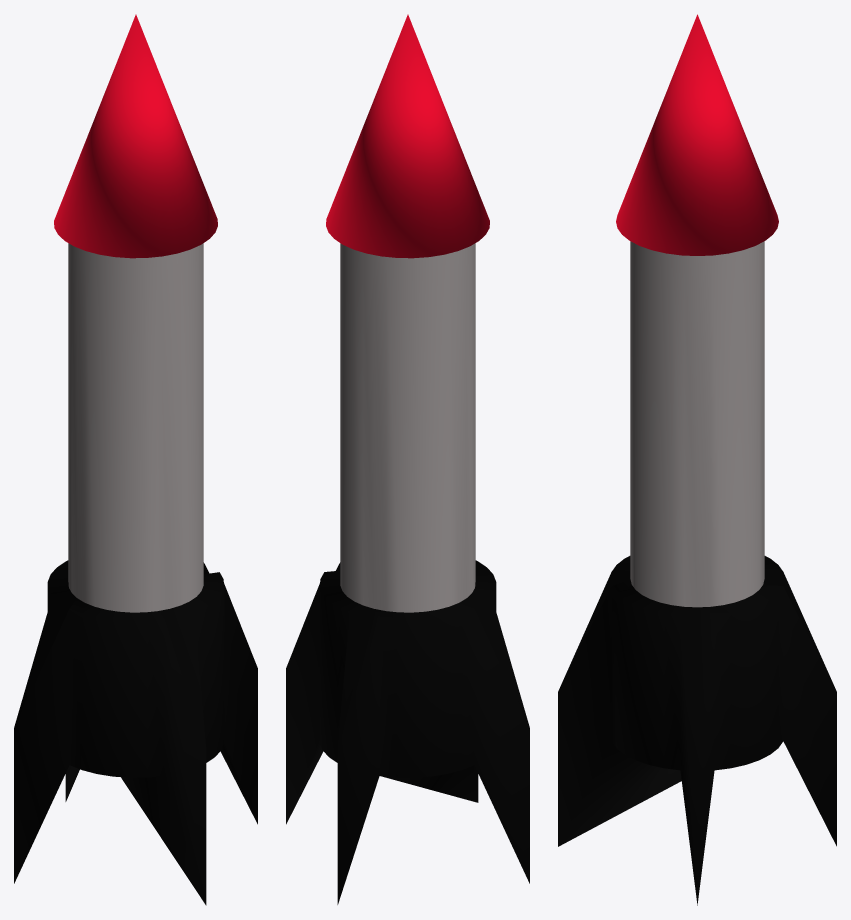
Rendered from rocket.fbx.
3 renders of one model, left to right at view 1: azimuth 30°, elevation 25°; view 2: azimuth 150°, elevation 25°; view 3: azimuth 270°, elevation 25°, orthographic.
Parts seen in each view (by area): view 1: Cylinder, Cone; view 2: Cylinder, Cone; view 3: Cylinder, Cone.
Boxes of the visible parts, x1=… form: Cylinder: x1=14, y1=243, x2=257, y2=905; Cone: x1=54, y1=14, x2=217, y2=258; Cylinder: x1=286, y1=243, x2=529, y2=904; Cone: x1=326, y1=14, x2=489, y2=258; Cylinder: x1=558, y1=241, x2=836, y2=905; Cone: x1=616, y1=14, x2=778, y2=255.
Size of the model in its own units: 134 by 443 by 134.
